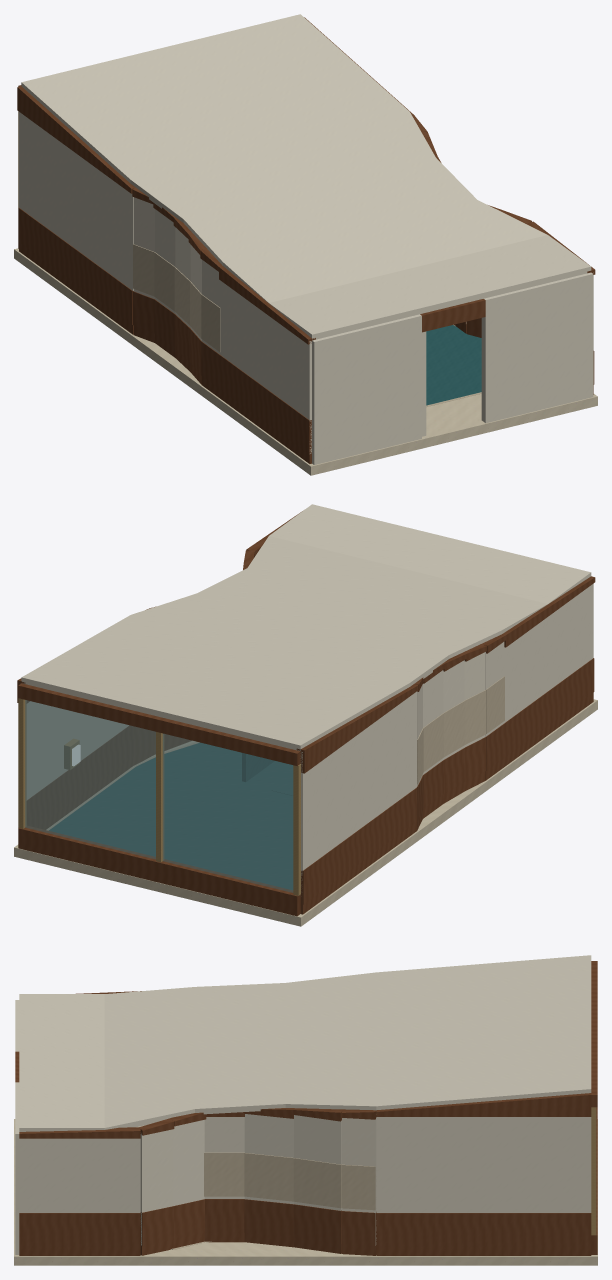
File: shell.glb
3 views of the same model, one above another, from view 1: azimuth 30°, elevation 25°; view 2: azimuth 150°, elevation 25°; view 3: azimuth 270°, elevation 25° (orthographic).
Parts seen in each view (by area): view 1: SUI_Runtime_ivory_enamel, SUI_Runtime_warm_walnut, SUI_Runtime_warm_stone, SUI_Runtime_oatmeal_weave, SUI_Runtime_teal_weave; view 2: SUI_Runtime_ivory_enamel, SUI_Runtime_warm_walnut, SUI_Runtime_SuiteHospitalityGlass, SUI_Runtime_teal_weave, SUI_Runtime_warm_stone, SUI_Runtime_oatmeal_weave, SUI_Runtime_champagne_metal; view 3: SUI_Runtime_ivory_enamel, SUI_Runtime_warm_walnut, SUI_Runtime_warm_stone, SUI_Runtime_oatmeal_weave, SUI_Runtime_champagne_metal.
Part boxes in pixels (x1,y1,x2,y2): SUI_Runtime_ivory_enamel: (19, 14, 593, 464); SUI_Runtime_warm_walnut: (17, 17, 595, 463); SUI_Runtime_warm_stone: (14, 248, 597, 475); SUI_Runtime_oatmeal_weave: (133, 244, 481, 406); SUI_Runtime_teal_weave: (426, 325, 481, 405); SUI_Runtime_ivory_enamel: (21, 504, 593, 885); SUI_Runtime_warm_walnut: (17, 511, 595, 916); SUI_Runtime_SuiteHospitalityGlass: (25, 700, 293, 892); SUI_Runtime_teal_weave: (49, 743, 292, 889); SUI_Runtime_warm_stone: (14, 699, 597, 926); SUI_Runtime_oatmeal_weave: (46, 676, 504, 830); SUI_Runtime_champagne_metal: (18, 698, 300, 895); SUI_Runtime_ivory_enamel: (15, 955, 591, 1254); SUI_Runtime_warm_walnut: (15, 961, 597, 1255); SUI_Runtime_warm_stone: (14, 1119, 597, 1265); SUI_Runtime_oatmeal_weave: (170, 1152, 375, 1249); SUI_Runtime_champagne_metal: (591, 1107, 596, 1235).
Size of the model in its own units: 7.2 by 4.26 by 12.9.
8 materials, 6 textured.
